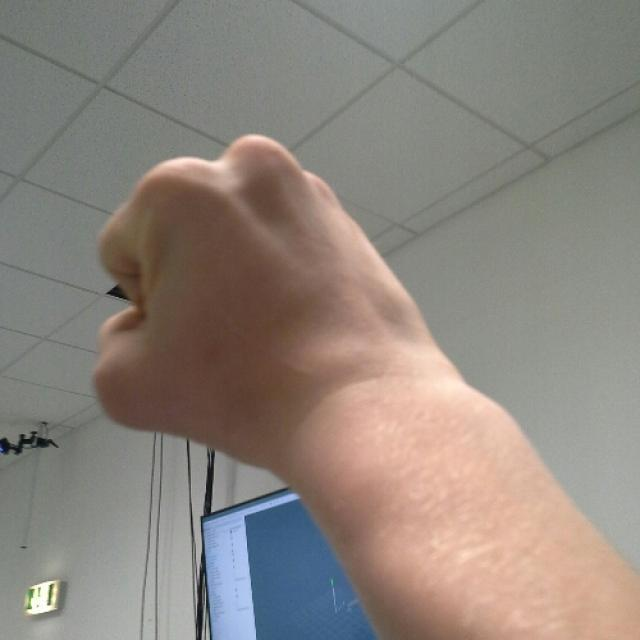fist: (93, 130, 404, 467)
